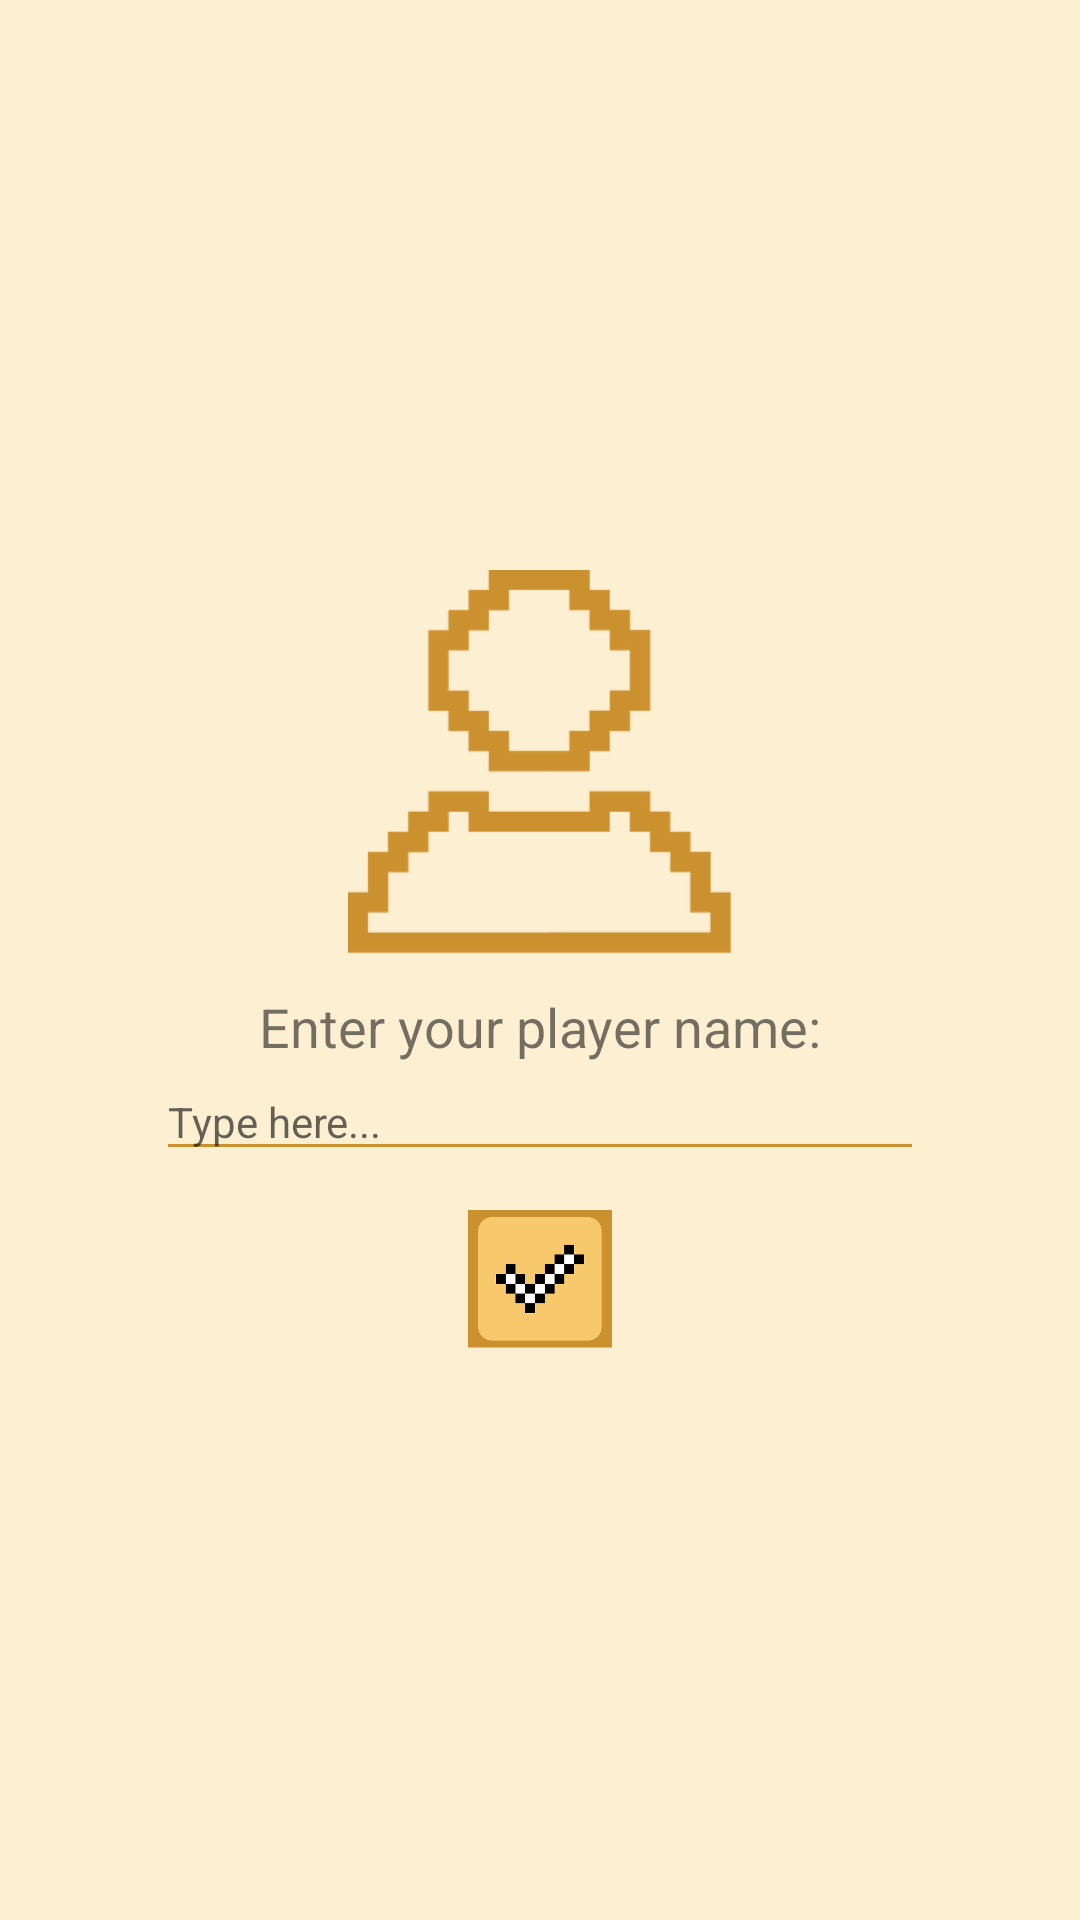

Icon bounding boxes for this 1080*1920 phone screenshot, format (x1, y1, x2, y2):
check: (468, 1210, 612, 1348)
